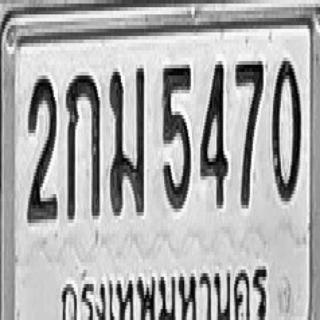A01: (65, 72, 100, 219)
A33: (109, 65, 144, 216)
N00: (272, 58, 301, 201)
N02: (26, 74, 57, 221)
N04: (200, 59, 228, 207)
N05: (162, 61, 191, 208)
N07: (234, 58, 264, 208)
P04: (58, 262, 270, 320)
